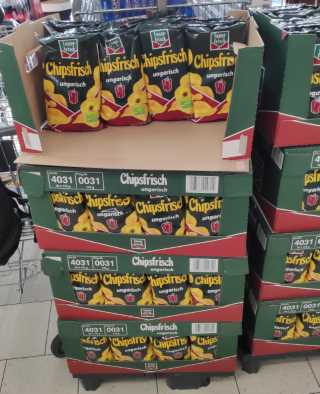chipsfrisch: (34, 31, 102, 133), (189, 25, 247, 121), (98, 29, 147, 126), (143, 27, 188, 125), (134, 195, 184, 236), (89, 194, 133, 235), (51, 191, 87, 234), (104, 271, 149, 305), (151, 272, 188, 305)
